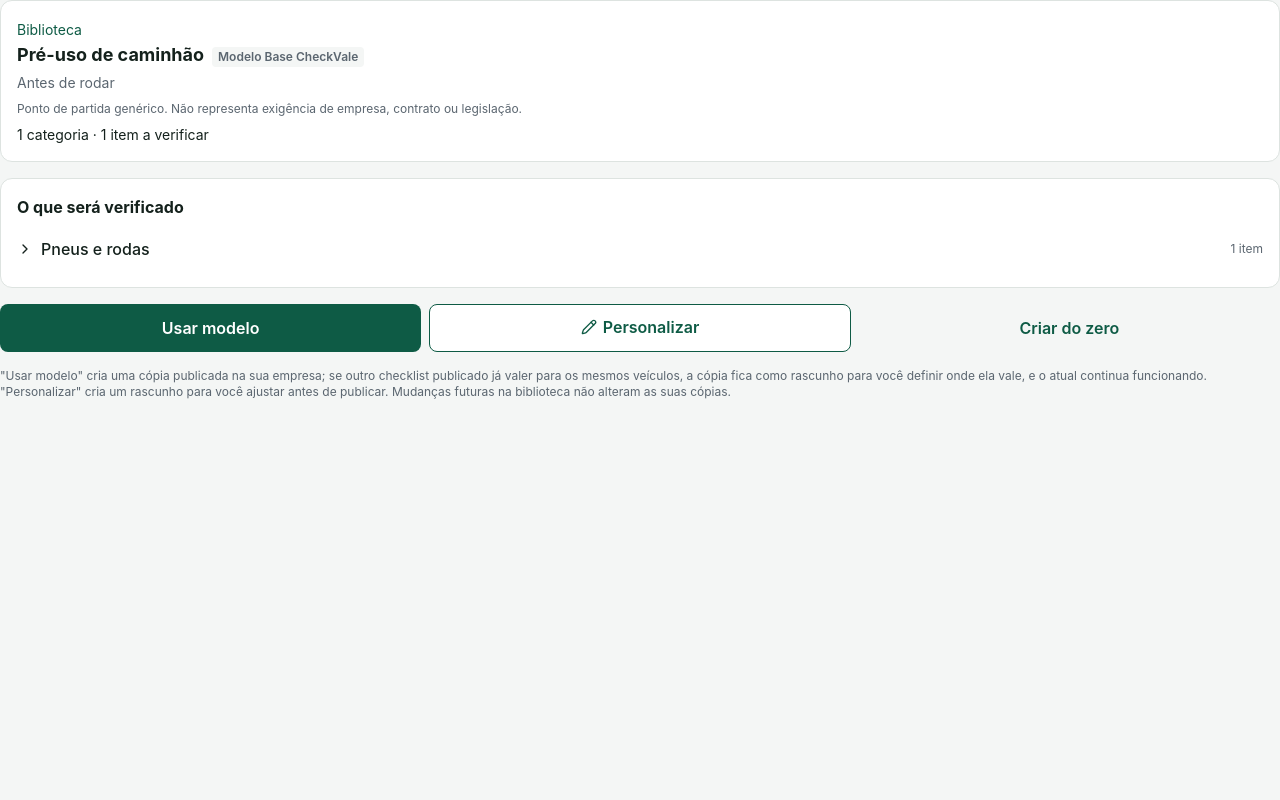
Scenario: biblioteca de checklists › personalizar copia como rascunho e abre o editor
Click the button "Personalizar" at (640, 328), box [429, 304, 851, 352]
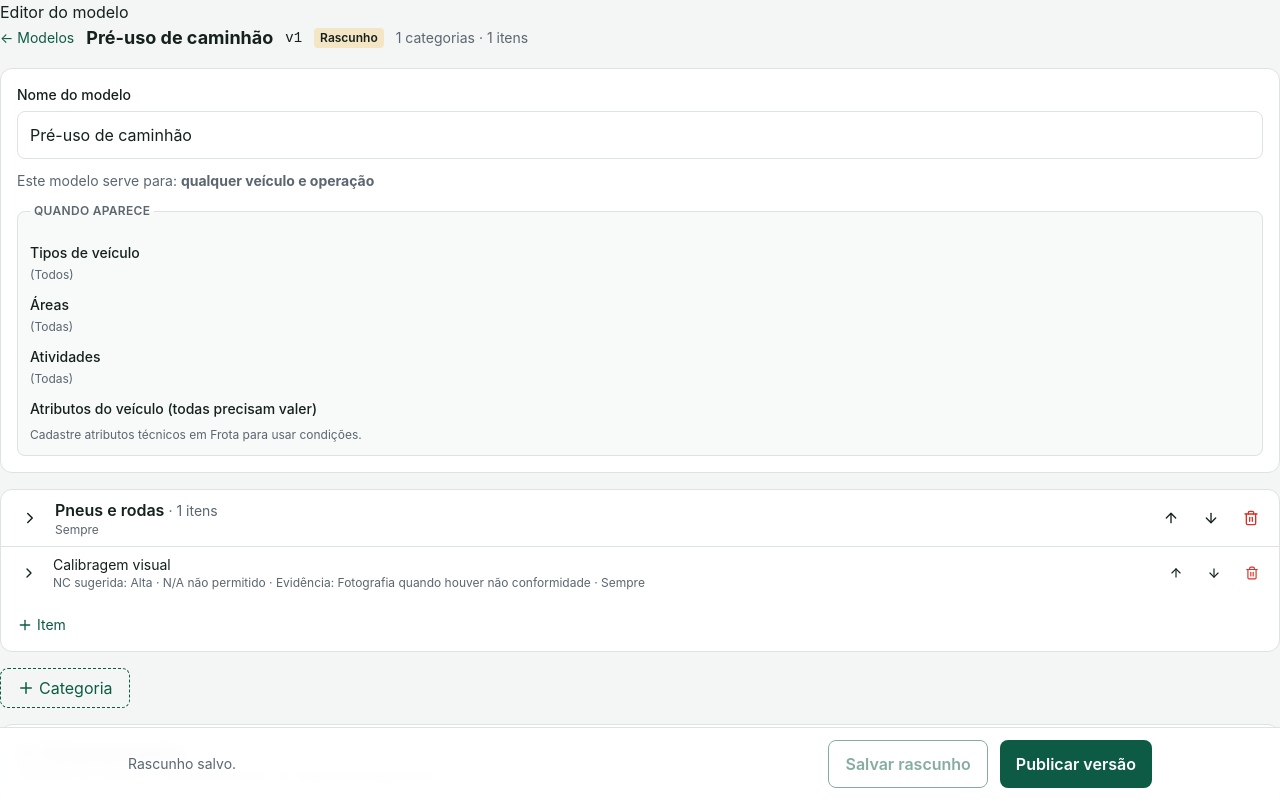
Expected: the heading "Editor do modelo" is shown, [0, 2, 129, 22]
